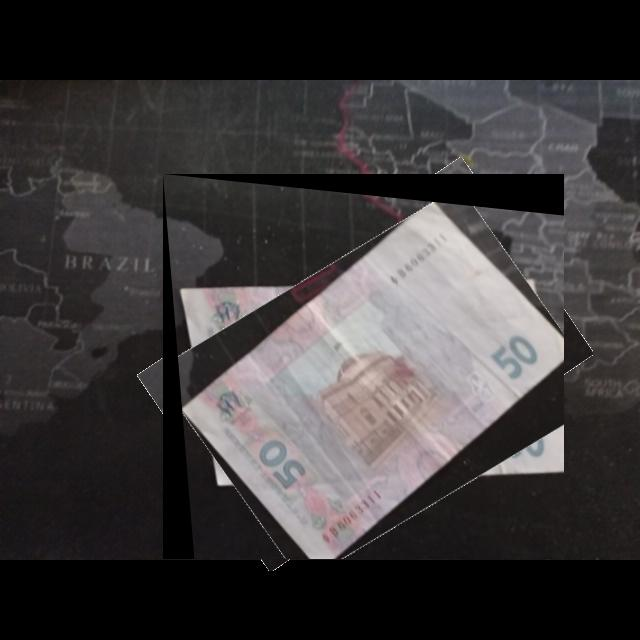50uah: (178, 197, 565, 560)
